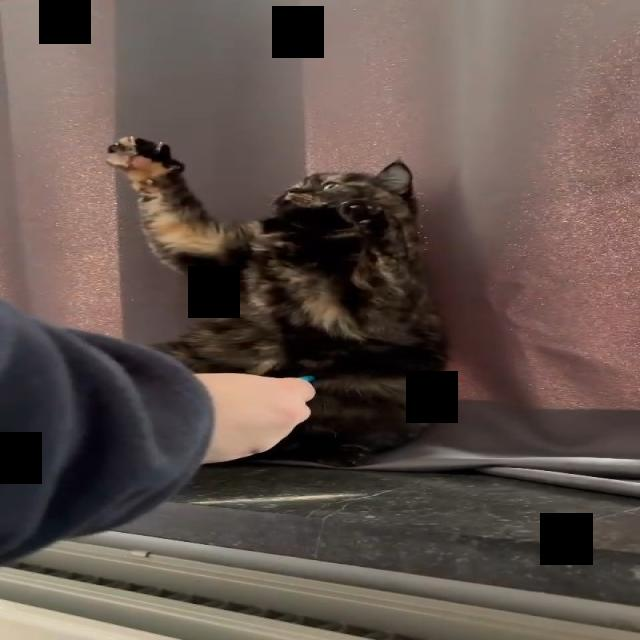authorized: (104, 135, 451, 467)
